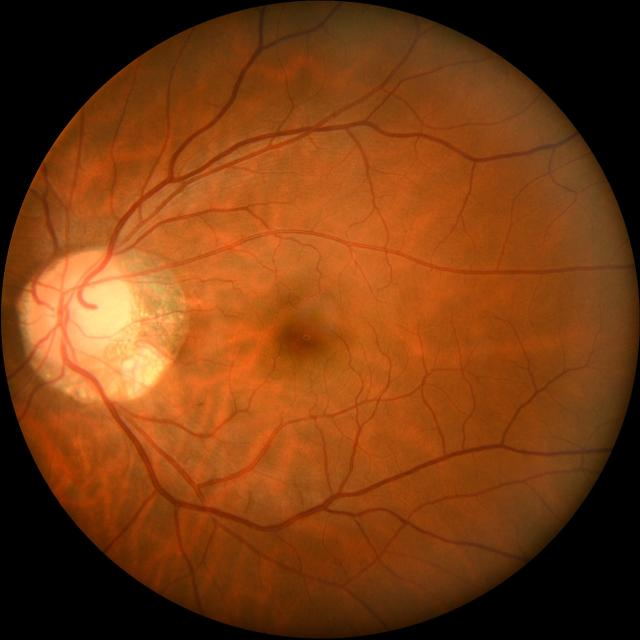OC: (55, 280, 123, 349)
OD: (27, 250, 133, 368)
